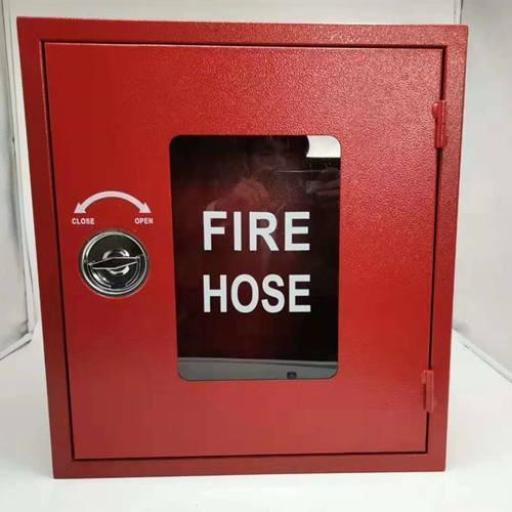fire_hose: (13, 10, 474, 490)
